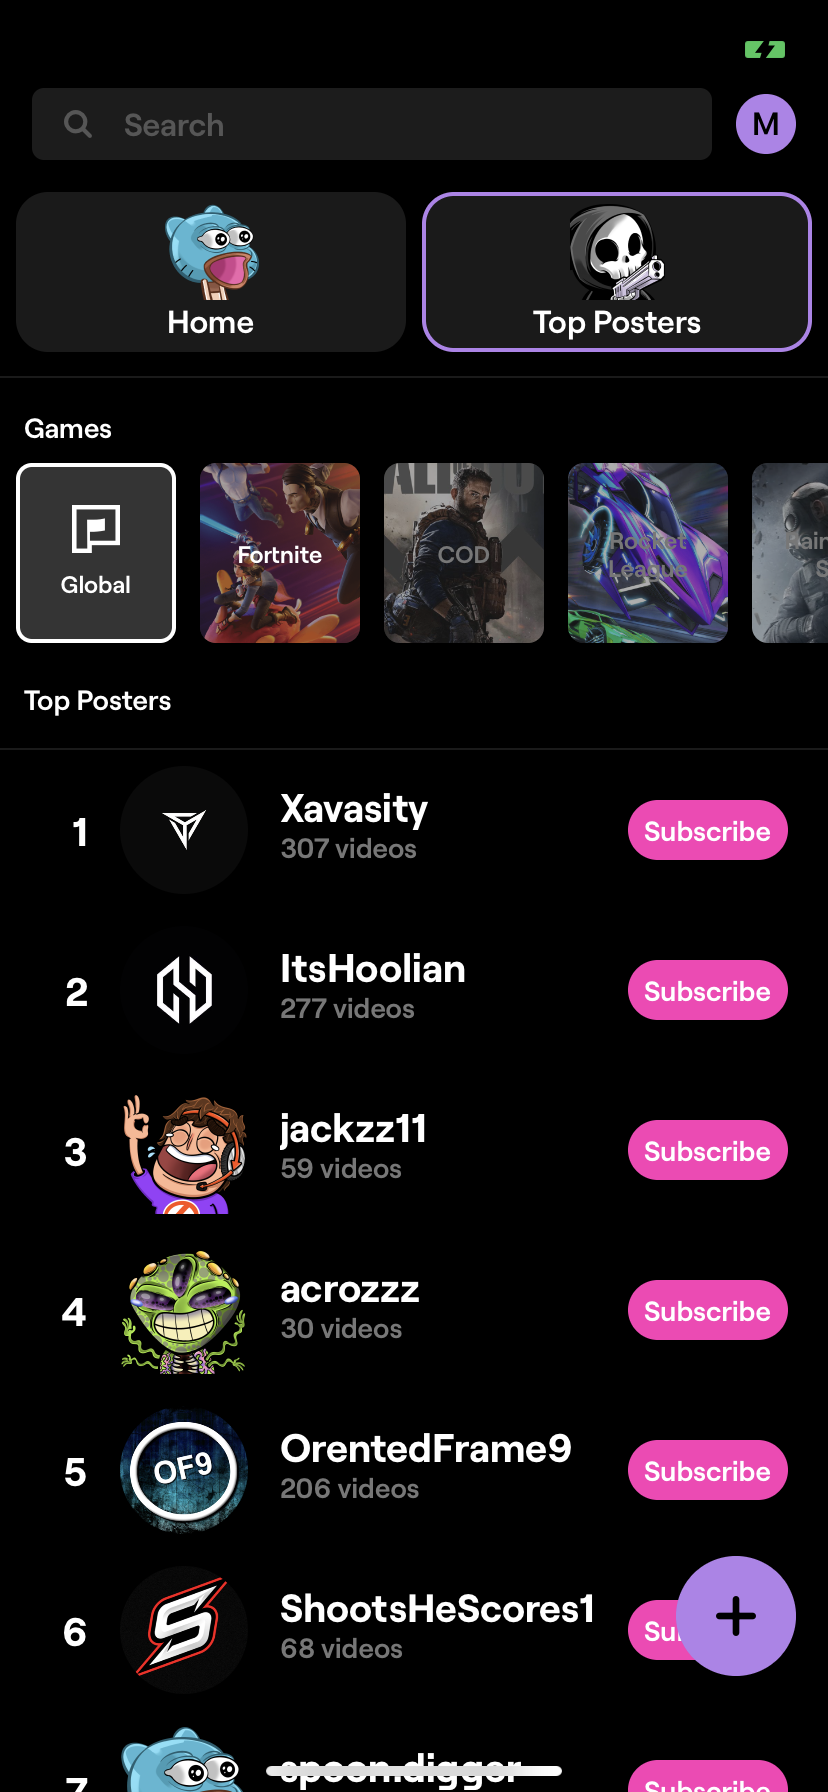Buttons: (616, 947, 795, 1038), (618, 784, 795, 870), (618, 1269, 794, 1354), (618, 1429, 795, 1509), (614, 1109, 796, 1186)
FAB (Floating Action Button): (672, 1543, 803, 1679)
